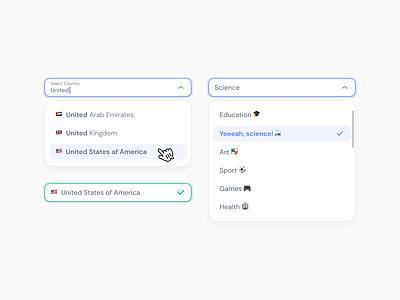button: (215, 126, 350, 143), (52, 146, 187, 162)
dropdown: (45, 184, 192, 203), (46, 80, 193, 98), (210, 80, 356, 98)
